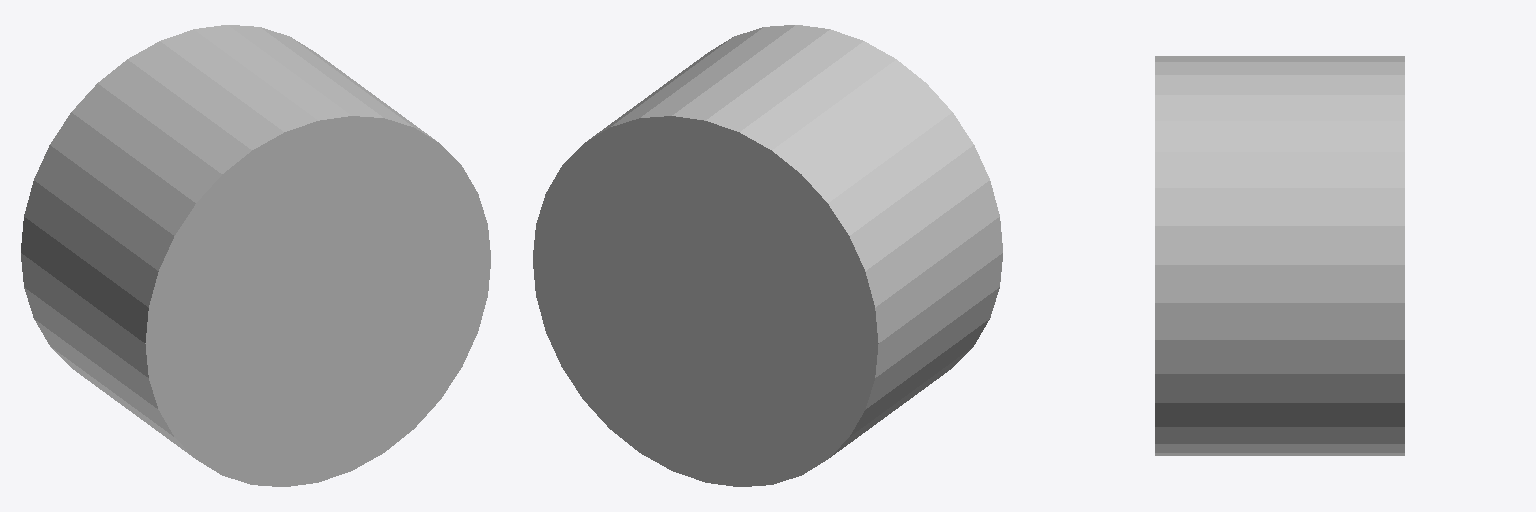
The model's file is tankBackRightWheels.obj.
3 renders of one model, left to right at view 1: azimuth 30°, elevation 25°; view 2: azimuth 150°, elevation 25°; view 3: azimuth 270°, elevation 25°, orthographic.
Parts seen in each view (by area): view 1: BackRightWheel; view 2: BackRightWheel; view 3: BackRightWheel.
Part boxes in pixels (x1,y1,x2,y2): BackRightWheel: (21,25,490,486); BackRightWheel: (533,25,1002,486); BackRightWheel: (1155,56,1404,455).
Size of the model in its own units: 0.816 by 0.816 by 0.51.